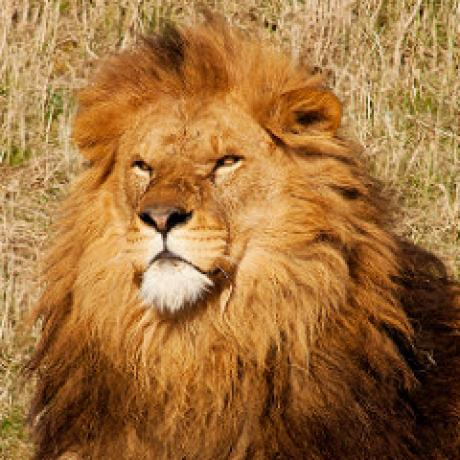Lion: (34, 9, 460, 460)
